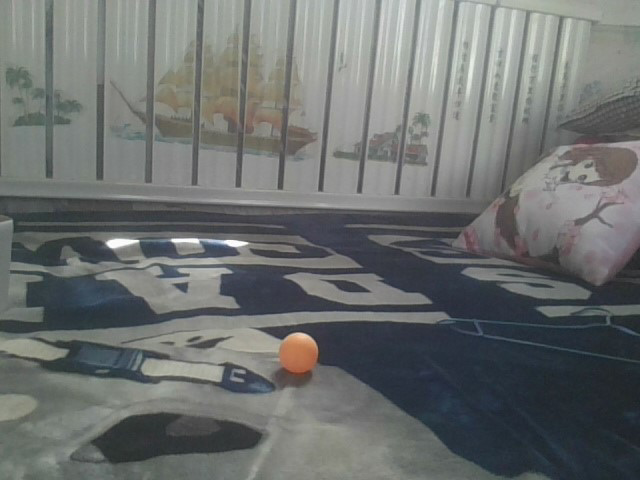ball: (280, 329, 320, 376)
